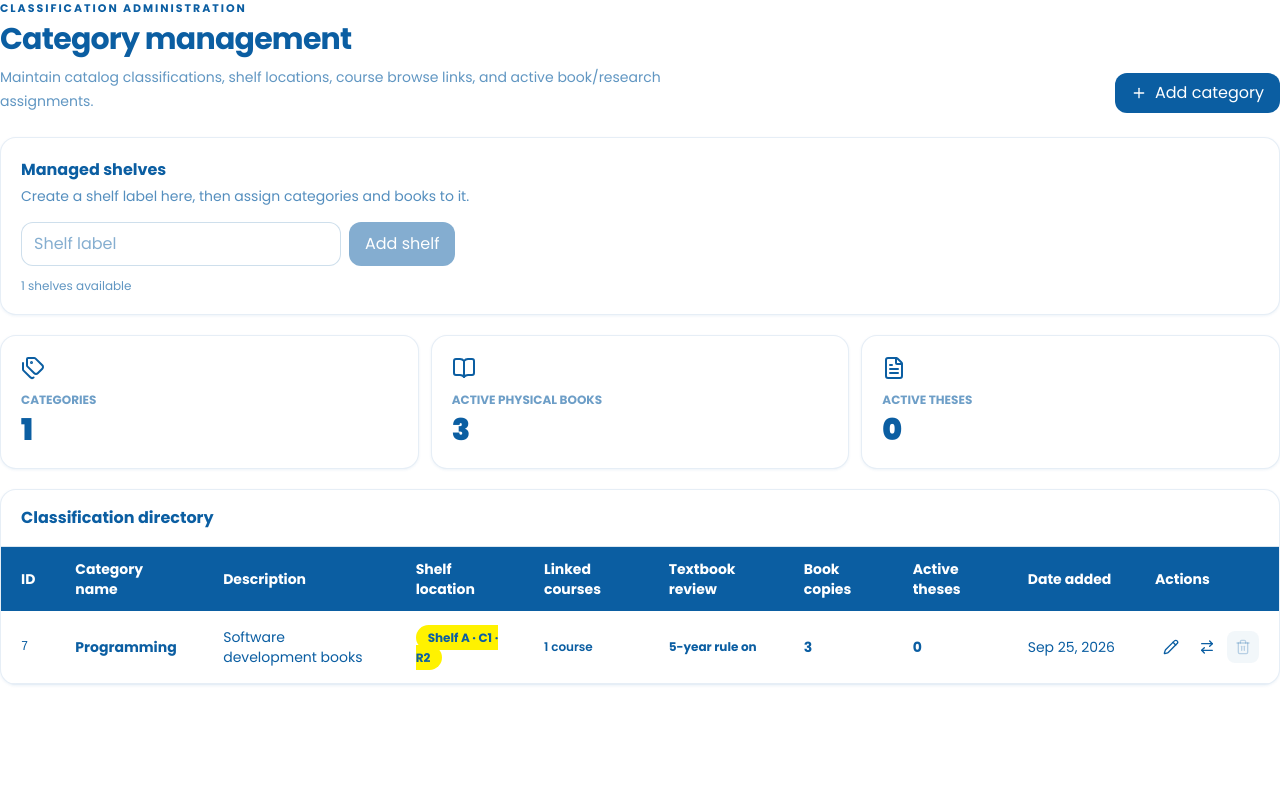
Test: CategoryManagementPage › shows the canonical category details and keeps assigned categories out of direct delete
Expected: the text "Software development books" is shown, [203,610,396,683]
Expected: the text "7" is shown, [1,610,55,683]
Click the button named "Edit Programming".
click(1171, 646)  # box [1155,630,1187,662]
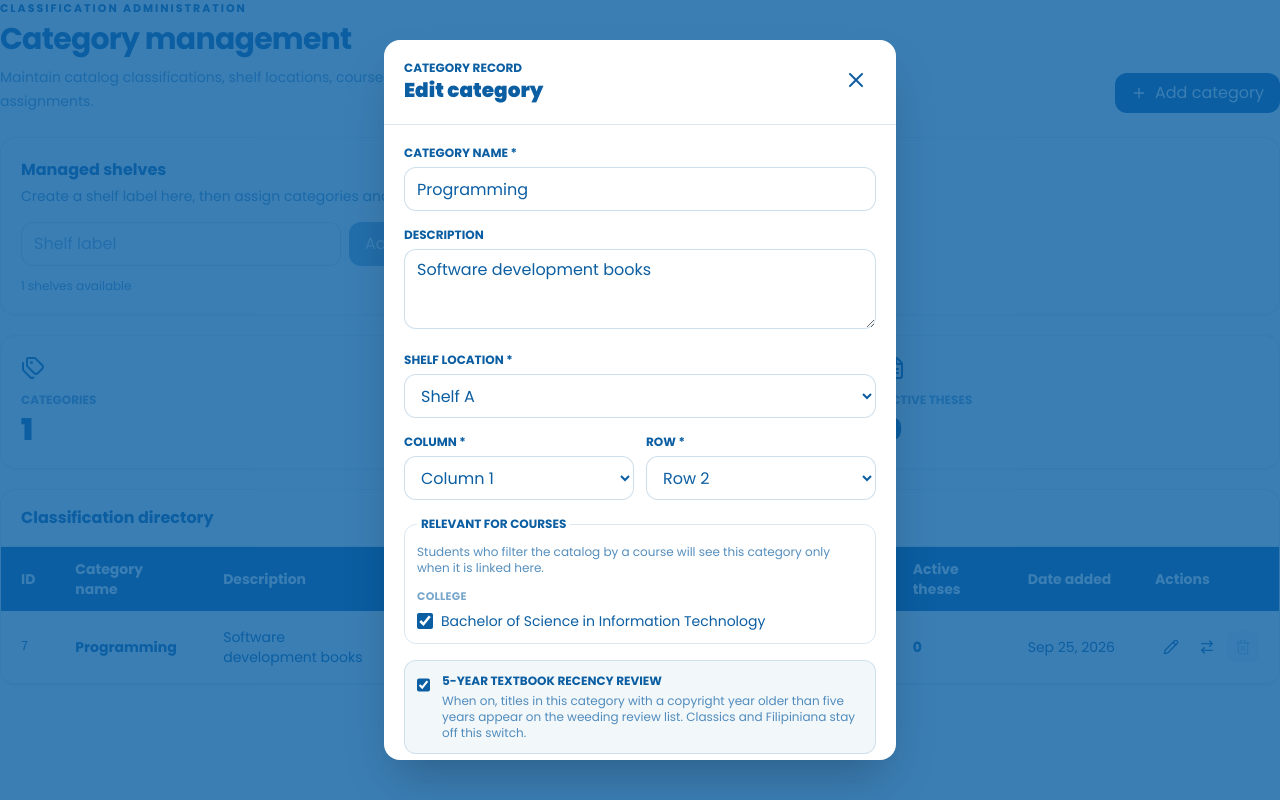
Result: the text box labelled "Description" holds "Software development books" at [404,249,876,329]
Result: the text "Relevant for courses" is shown at [417,516,570,532]
